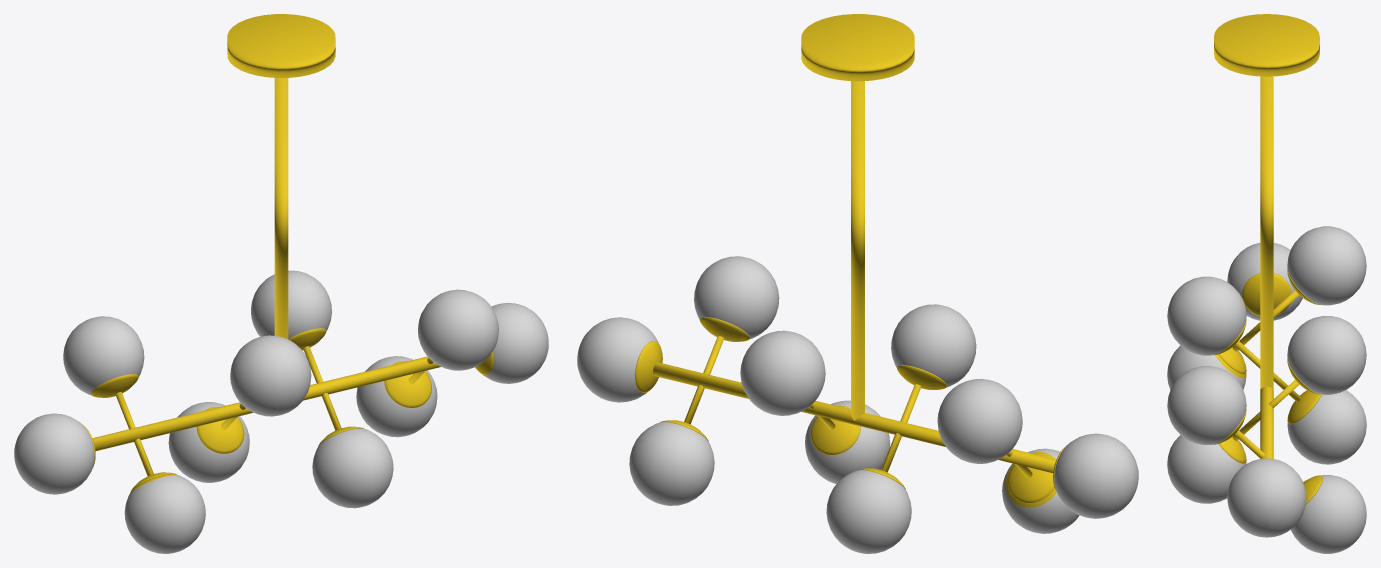
File: chandelier-lit.glb
The picture shows the model from 3 angles, left to right: view 1: azimuth 30°, elevation 25°; view 2: azimuth 150°, elevation 25°; view 3: azimuth 270°, elevation 25°; orthographic projection. The views are drawn at different scales.
Parts seen in each view (by area): view 1: chandelier.001; view 2: chandelier.001; view 3: chandelier.001.
Boxes of the visible parts, bbox=[...] form: chandelier.001: bbox=[14, 14, 548, 553]; chandelier.001: bbox=[577, 14, 1138, 553]; chandelier.001: bbox=[1167, 14, 1366, 553].
Size of the model in its own units: 0.8934 by 0.7414 by 0.3019.
